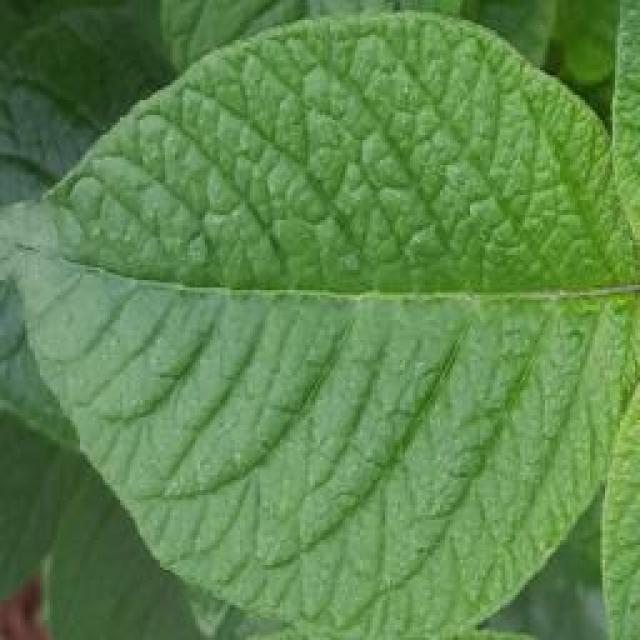healthy: (0, 5, 638, 637)
